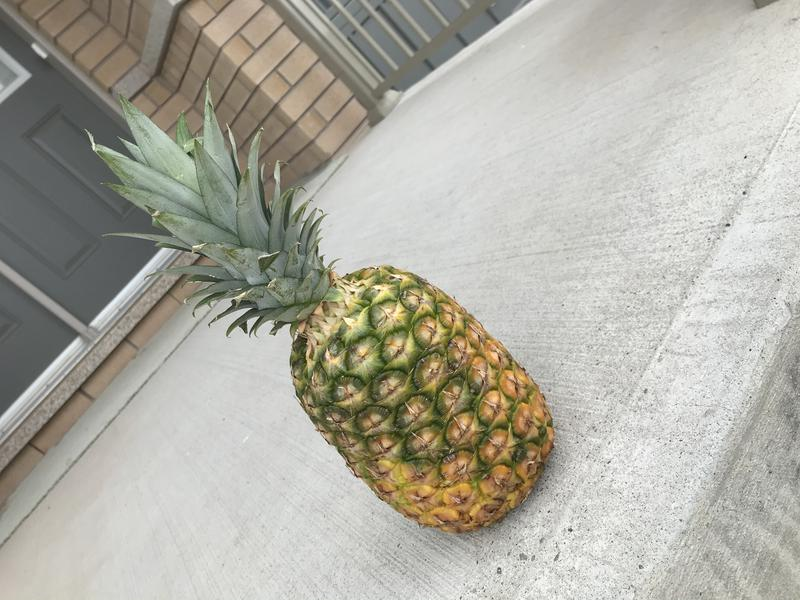pineapple: (71, 86, 579, 538)
